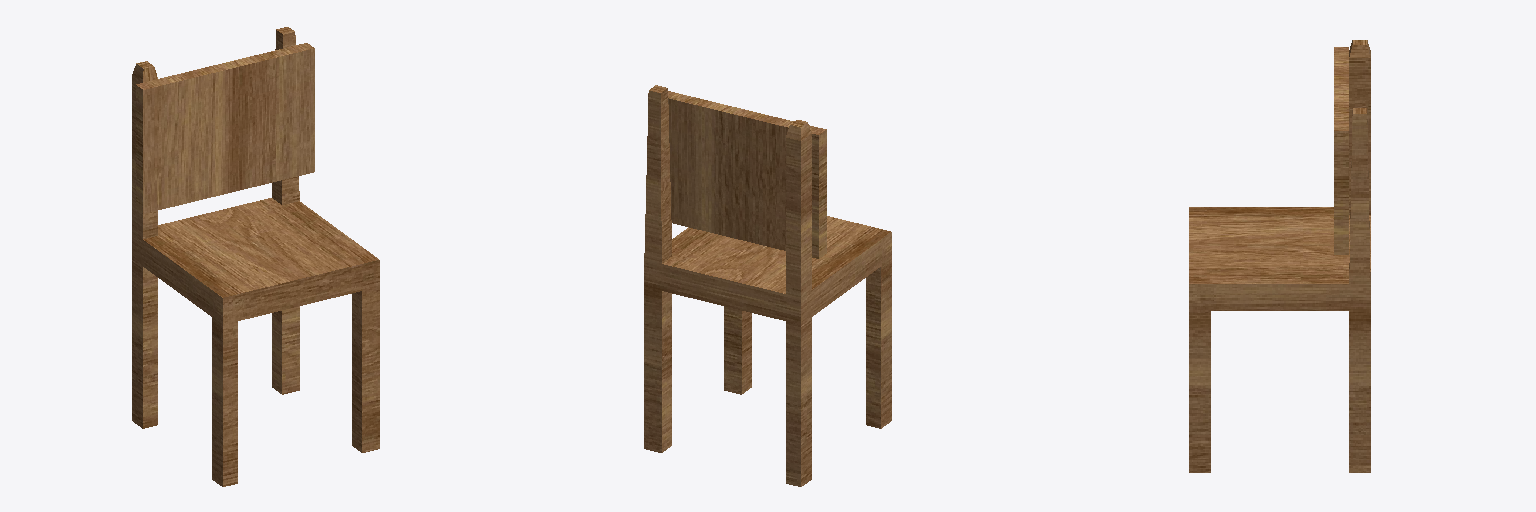
3 renders of one model, left to right at view 1: azimuth 30°, elevation 25°; view 2: azimuth 150°, elevation 25°; view 3: azimuth 270°, elevation 25°, orthographic.
Visible parts, largest first — view 1: Cube_Cube.002; view 2: Cube_Cube.002; view 3: Cube_Cube.002.
Boxes of the visible parts, x1=… form: Cube_Cube.002: x1=132, y1=27, x2=379, y2=486; Cube_Cube.002: x1=644, y1=85, x2=891, y2=486; Cube_Cube.002: x1=1189, y1=40, x2=1370, y2=472.
Size of the model in its own units: 2.19 by 4.36 by 2.
Materials: 1 (1 with a texture image).